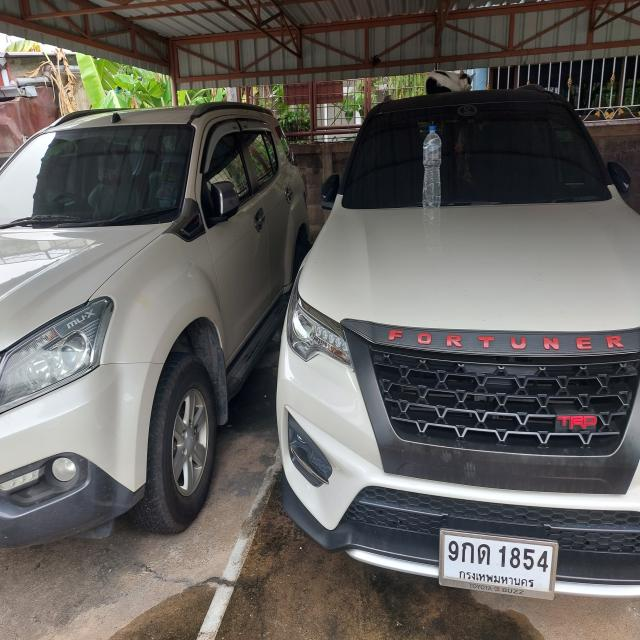license_plate: (437, 523, 558, 605)
